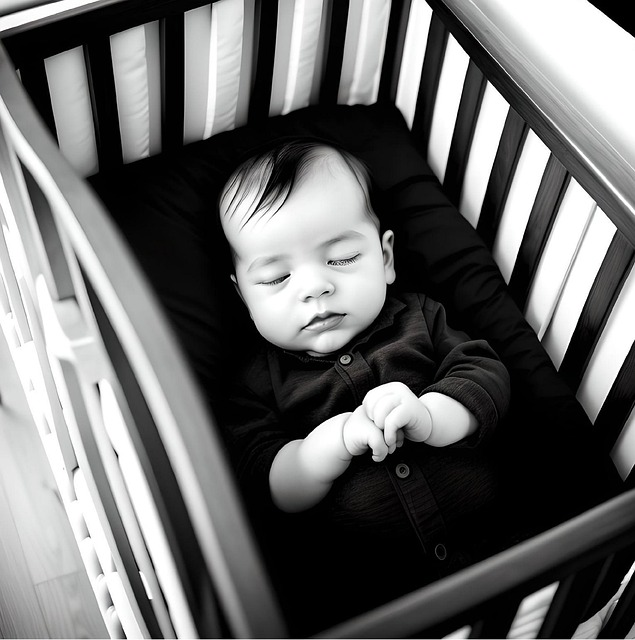baby: (219, 139, 509, 631)
crib: (0, 0, 634, 636)
